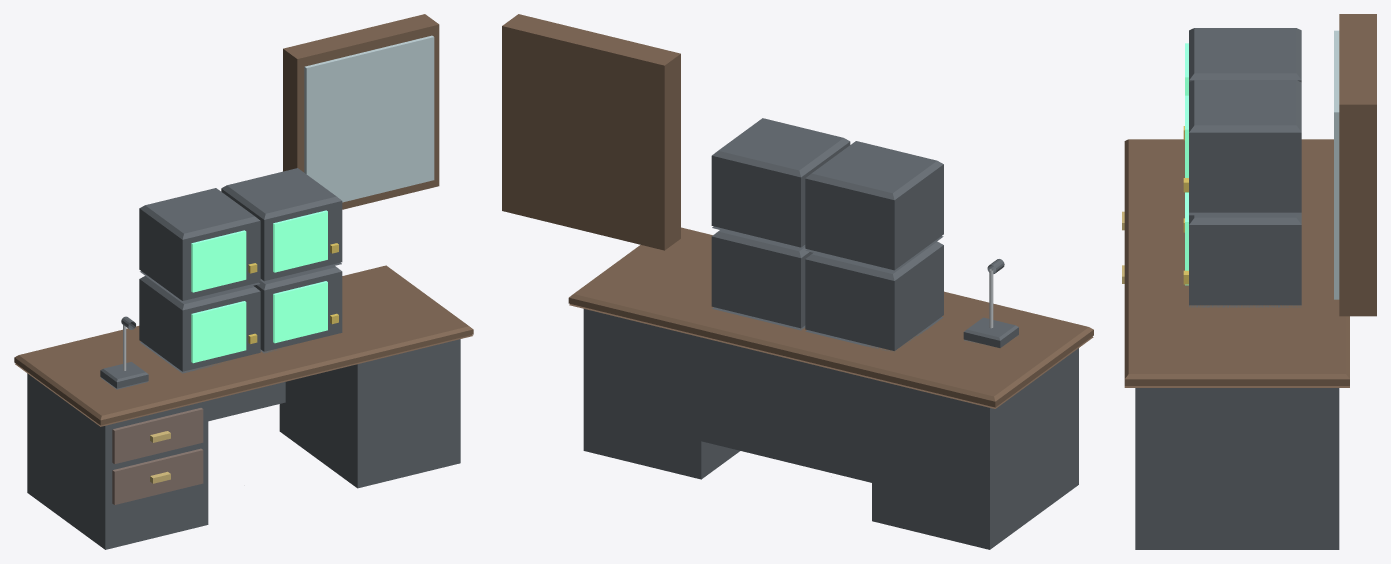
Rendered from sf_pro_dorm_warden_desk.glb.
3 views of the same model, side by side, from view 1: azimuth 30°, elevation 25°; view 2: azimuth 150°, elevation 25°; view 3: azimuth 270°, elevation 25° (orthographic). The views are drawn at different scales.
Visible parts, largest first — view 1: ProDormWardenPure3D_Root; view 2: ProDormWardenPure3D_Root; view 3: ProDormWardenPure3D_Root.
Boxes of the visible parts, x1=… form: ProDormWardenPure3D_Root: x1=14, y1=14, x2=473, y2=549; ProDormWardenPure3D_Root: x1=502, y1=14, x2=1093, y2=549; ProDormWardenPure3D_Root: x1=1122, y1=14, x2=1376, y2=549.
Bounding box in the file's own units: 2.37 × 2.02 × 0.95.
